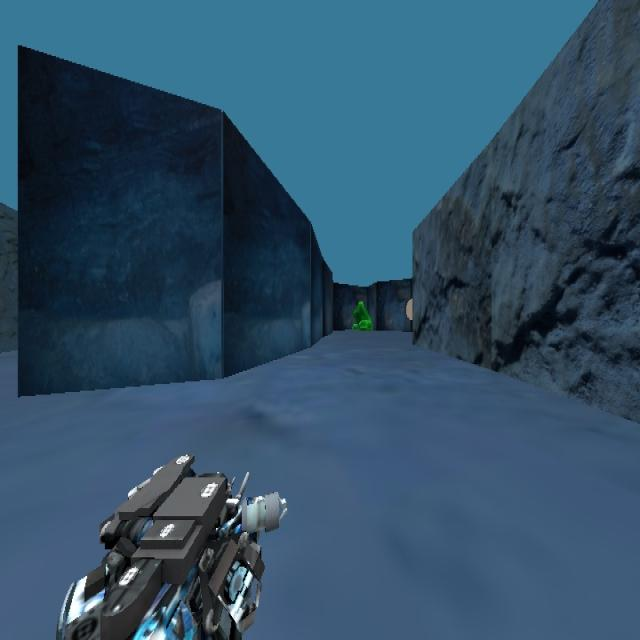Diamon: (351, 298, 373, 330)
Stop_Sign: (404, 297, 412, 320)
